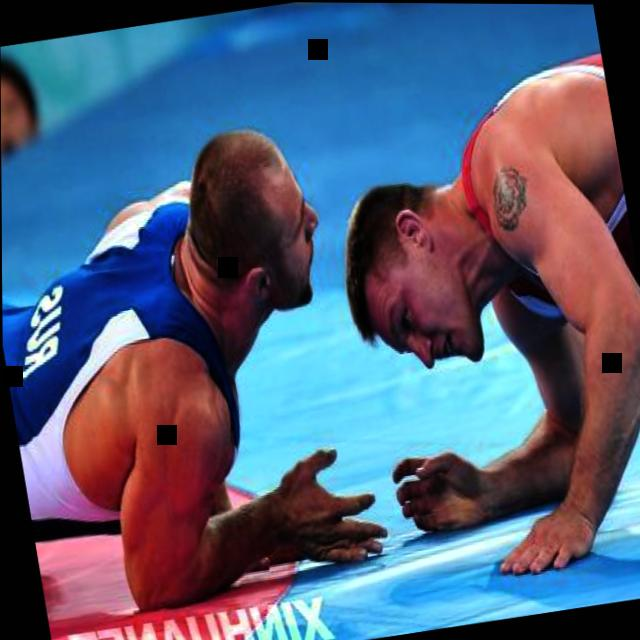Fall-Detected: (285, 2, 640, 603)
